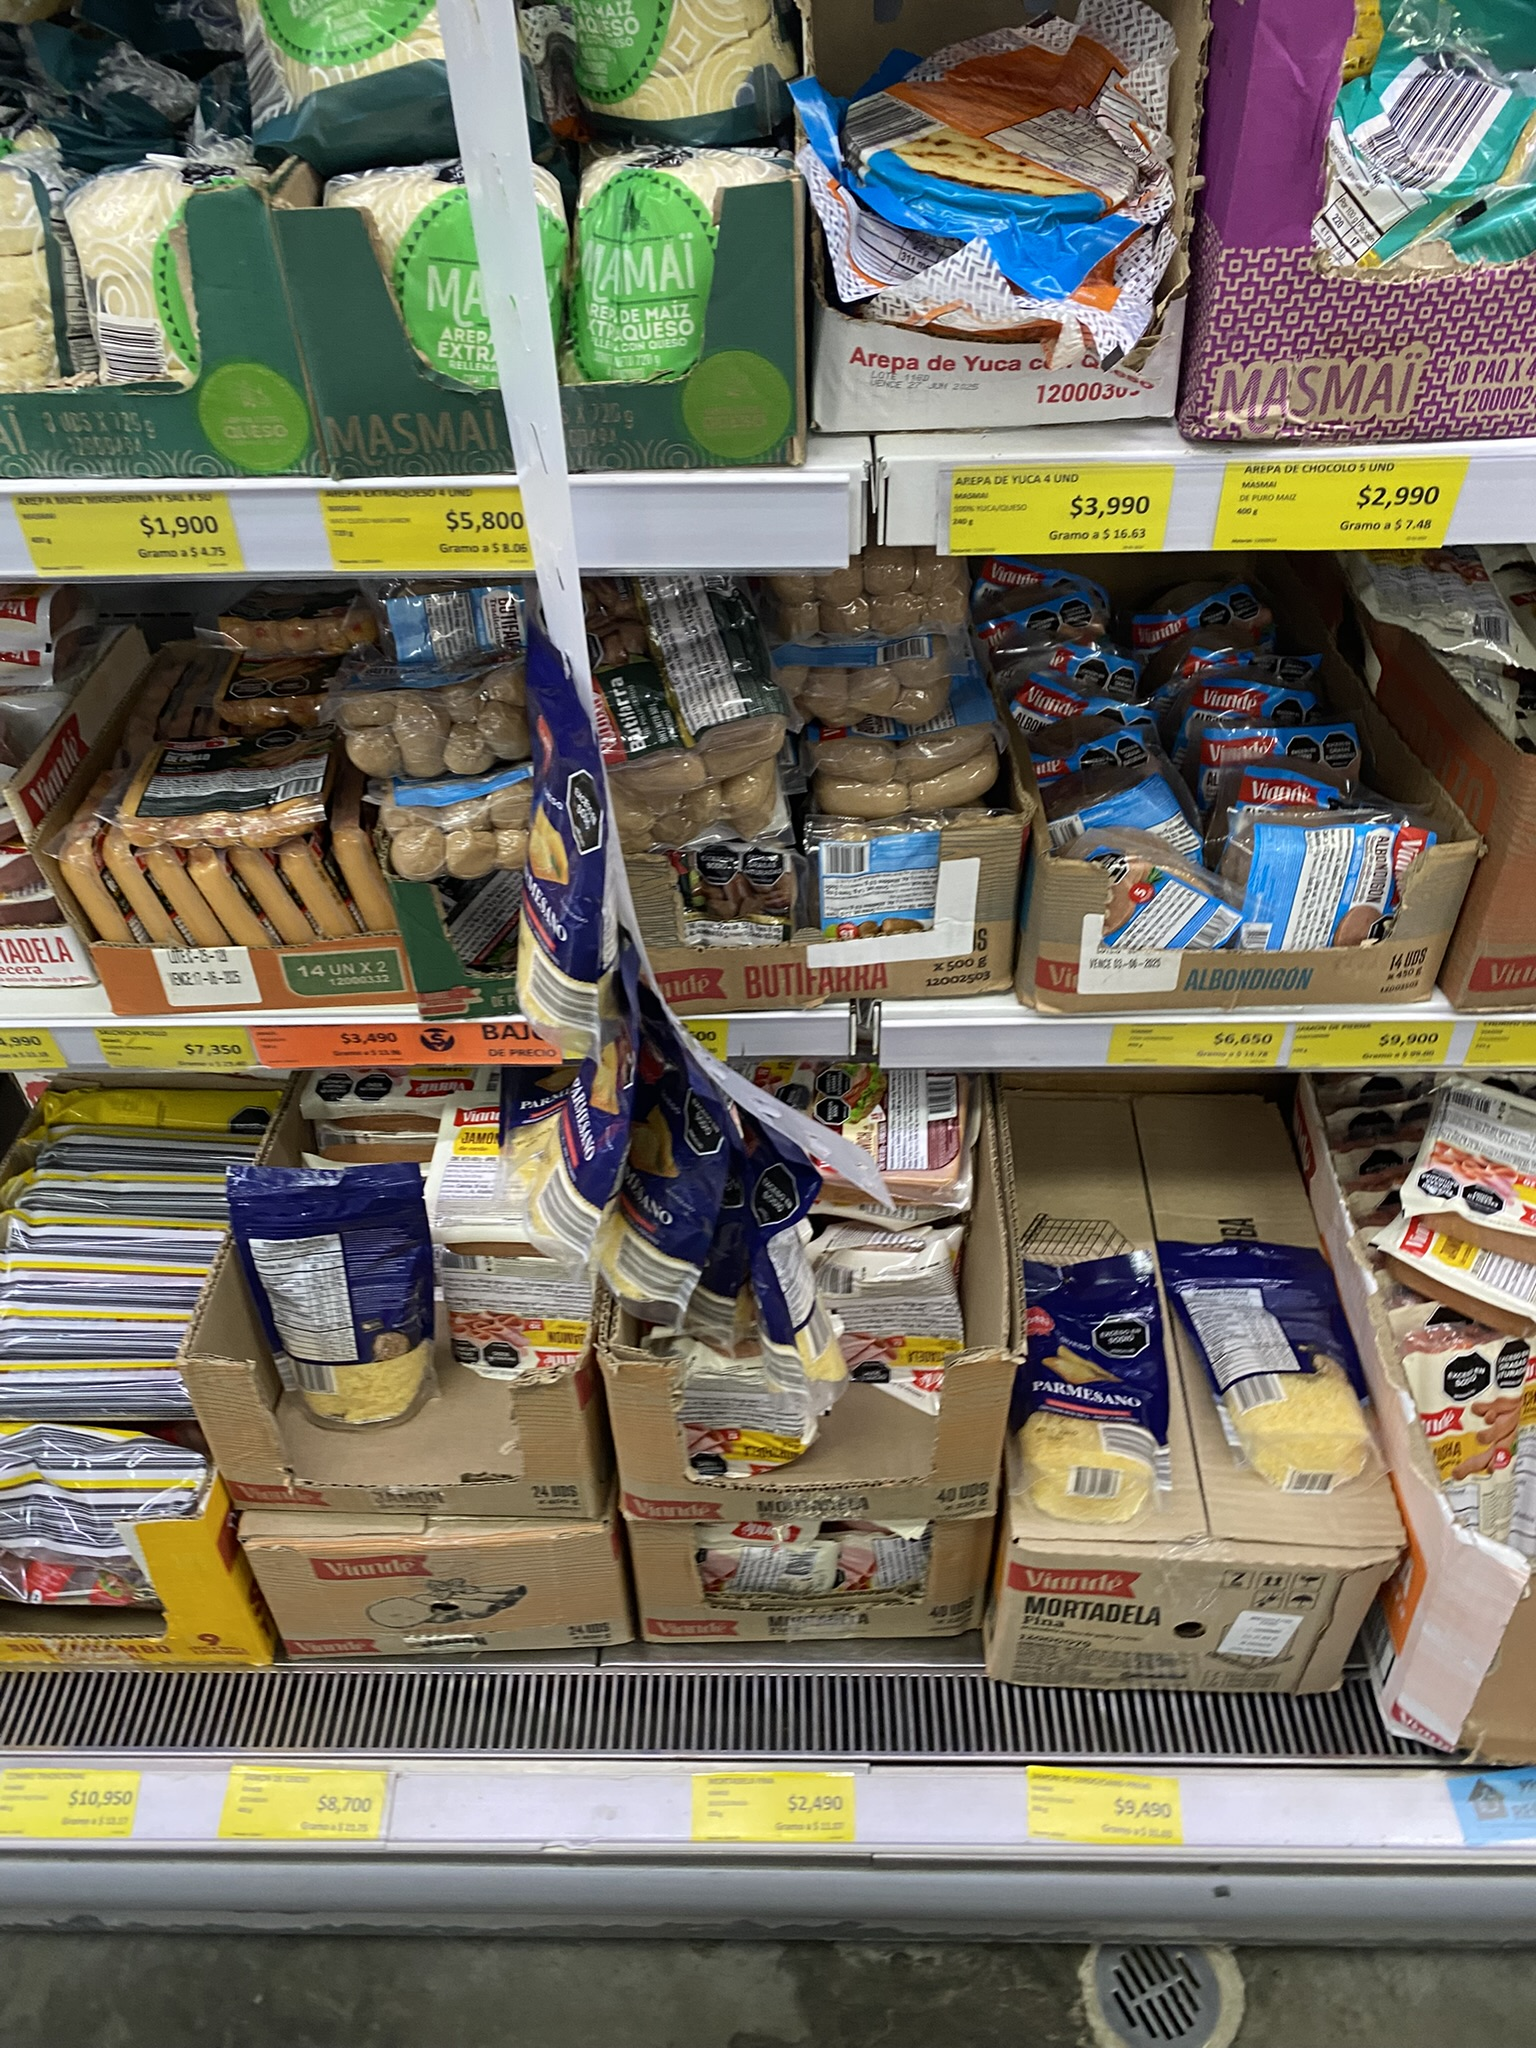Queso Parmesano: (223, 1150, 471, 1443), (1167, 1224, 1418, 1487), (995, 1250, 1181, 1526), (520, 940, 673, 1235), (524, 626, 626, 1026), (603, 1034, 737, 1330), (705, 1126, 847, 1372)
